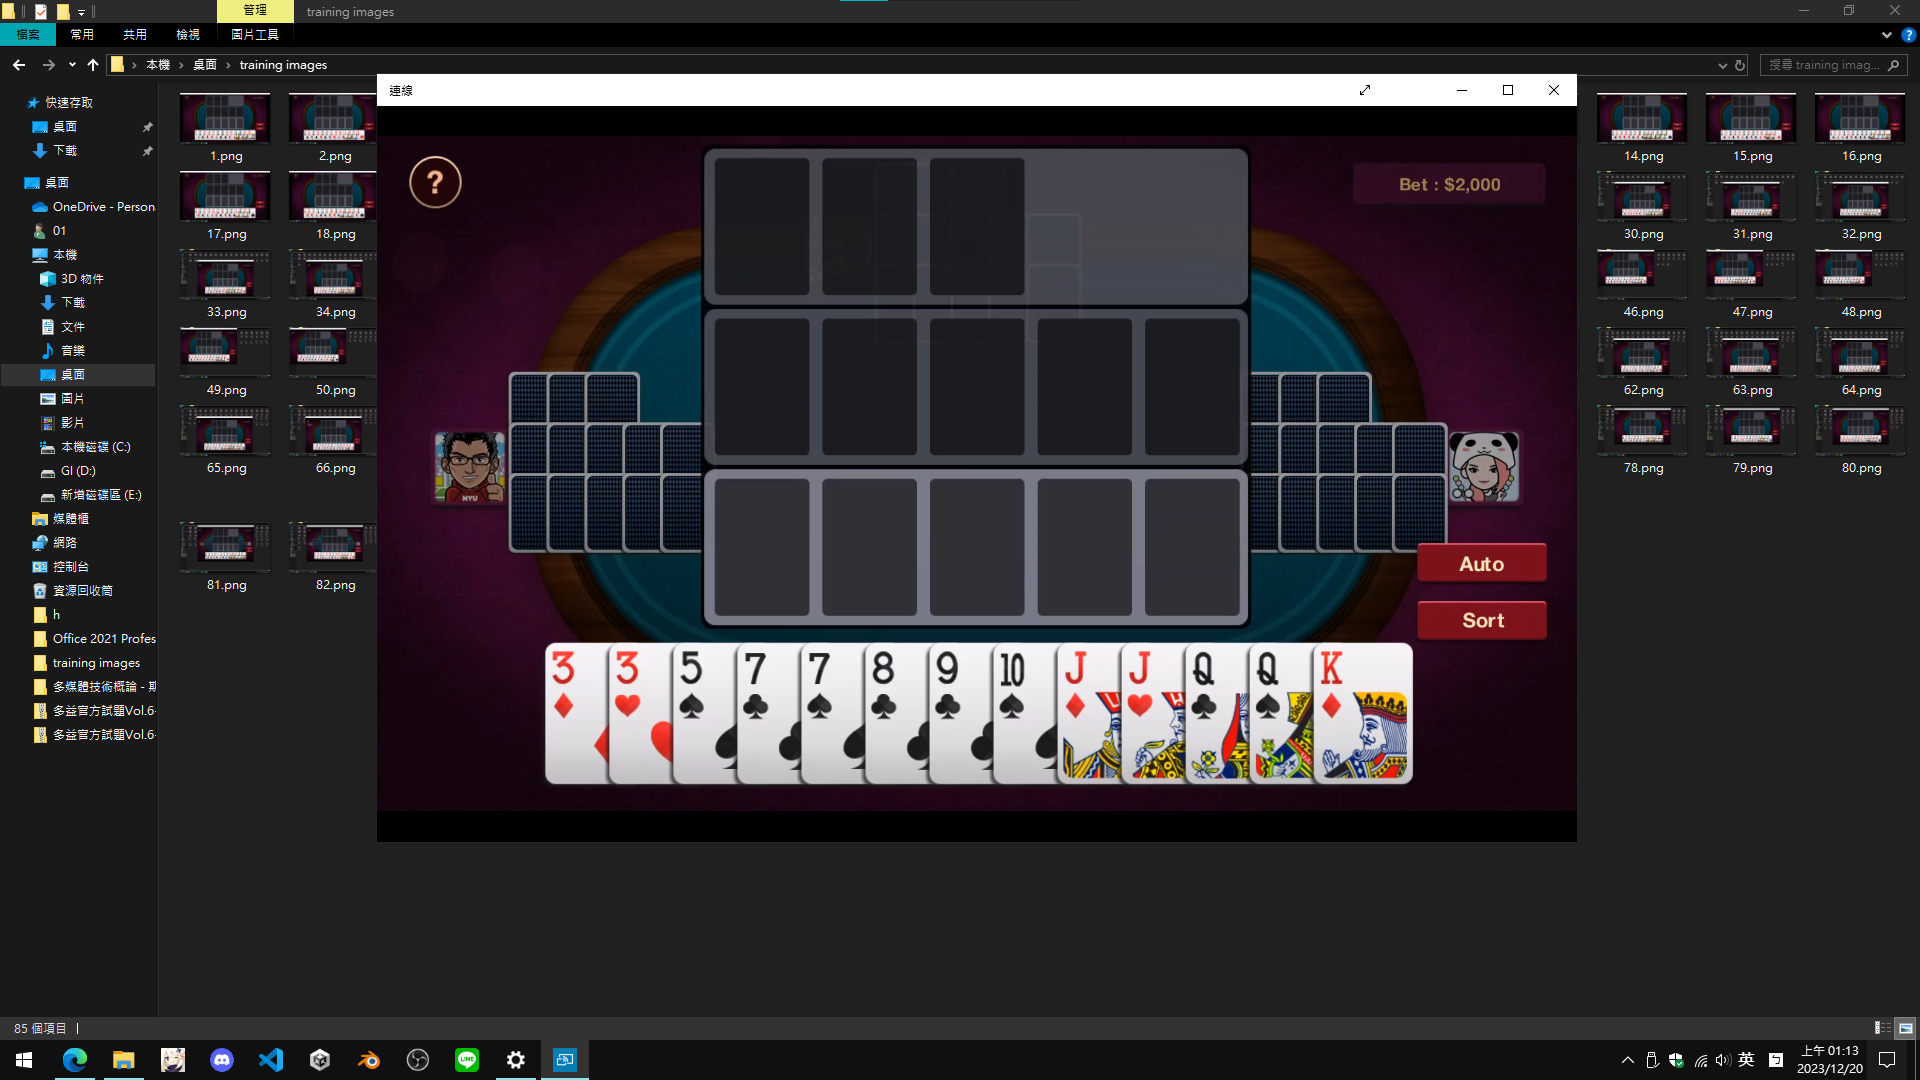10S: (996, 646, 1027, 725)
3D: (550, 647, 578, 724)
3H: (613, 647, 642, 721)
5S: (678, 647, 705, 728)
7C: (738, 646, 770, 721)
7S: (804, 647, 836, 724)
8C: (869, 646, 897, 723)
9C: (934, 647, 964, 725)
JD: (1062, 649, 1089, 721)
JH: (1125, 646, 1158, 721)
KD: (1317, 644, 1345, 727)
QC: (1189, 649, 1218, 725)
QS: (1253, 646, 1284, 723)
